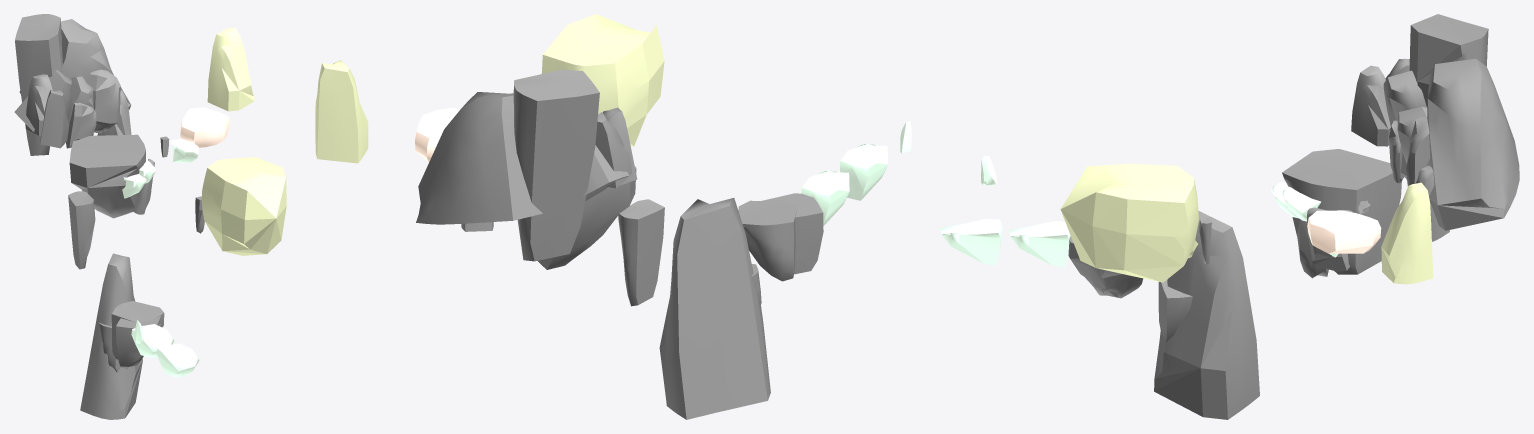
File: testrock0311.fbx
3 views of the same model, side by side, from view 1: azimuth 30°, elevation 25°; view 2: azimuth 150°, elevation 25°; view 3: azimuth 270°, elevation 25° (orthographic). The views are drawn at different scales.
Visible parts, largest first — view 1: R2A__3__3, R5B__4___4_, R5B__4___1_, R5B__4___6__1, R5B__4___12_, R5B__4___20_, R5B__4___2__1, R2A__19___2_1, R5B__4___11_, R5B__4___18_, R5A__16___1_, R5B__4___17_ (+12 smaller); view 2: R5B__4___4_, R5B__4___6__1, R5B__4___20_, R2A__3__3, R5B__4___12_, R5B__4___2__1, R5B__4___15_, R5B__4___1_, R5B__4___14_, R5A__16___1_, R5A__16___2_, R5B__4___17_ (+3 smaller); view 3: R5B__4___4_, R2A__3__3, R5B__4___20_, R5B__4___1_, R5B__4___12_, R5B__4___6__1, R2A__19___2_1, R5B__4___18_, R5A__16___1_, R5A__16___2_, R5B__4___7__1, R5B__4___13_ (+9 smaller).
Boxes of the visible parts, x1,y1,x2,y2 form: R2A__3__3: (201,157,286,255); R5B__4___4_: (80,253,142,419); R5B__4___1_: (69,134,145,218); R5B__4___6__1: (15,14,62,155); R5B__4___12_: (207,27,254,111); R5B__4___20_: (19,19,131,133); R5B__4___2__1: (68,191,95,269); R2A__19___2_1: (180,107,229,147); R5B__4___11_: (89,69,120,131); R5B__4___18_: (40,89,69,148); R5A__16___1_: (156,343,199,377); R5B__4___17_: (25,74,52,135); R5B__4___4_: (659,198,770,419); R5B__4___6__1: (513,69,599,261); R5B__4___20_: (416,92,542,224); R2A__3__3: (541,14,664,146); R5B__4___12_: (315,60,368,163); R5B__4___2__1: (618,199,664,306); R5B__4___15_: (738,200,797,281); R5B__4___1_: (538,166,636,269); R5B__4___14_: (762,193,823,274); R5A__16___1_: (840,143,887,200); R5A__16___2_: (801,170,849,225); R5B__4___17_: (595,112,632,188); R5B__4___4_: (1154,210,1259,419); R2A__3__3: (1060,163,1198,282); R5B__4___20_: (1426,58,1519,230); R5B__4___1_: (1282,149,1401,274); R5B__4___12_: (1381,182,1433,284); R5B__4___6__1: (1409,14,1488,107); R2A__19___2_1: (1307,210,1381,253); R5B__4___18_: (1351,65,1390,146); R5A__16___1_: (940,219,1003,265); R5A__16___2_: (1009,221,1070,267); R5B__4___7__1: (1383,70,1426,126); R5B__4___13_: (1158,279,1192,341).
Size of the model in its own units: 10870 by 11409 by 15351.
